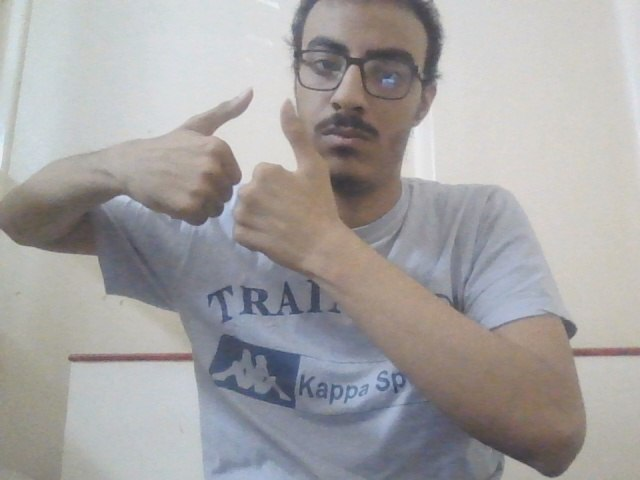Help: (131, 75, 357, 287)
